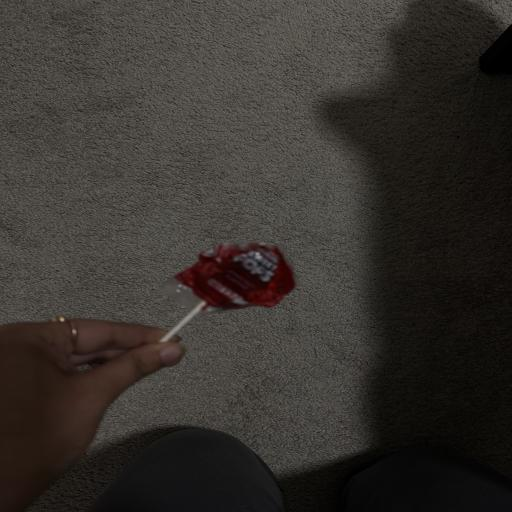chocolate: (162, 243, 295, 311)
